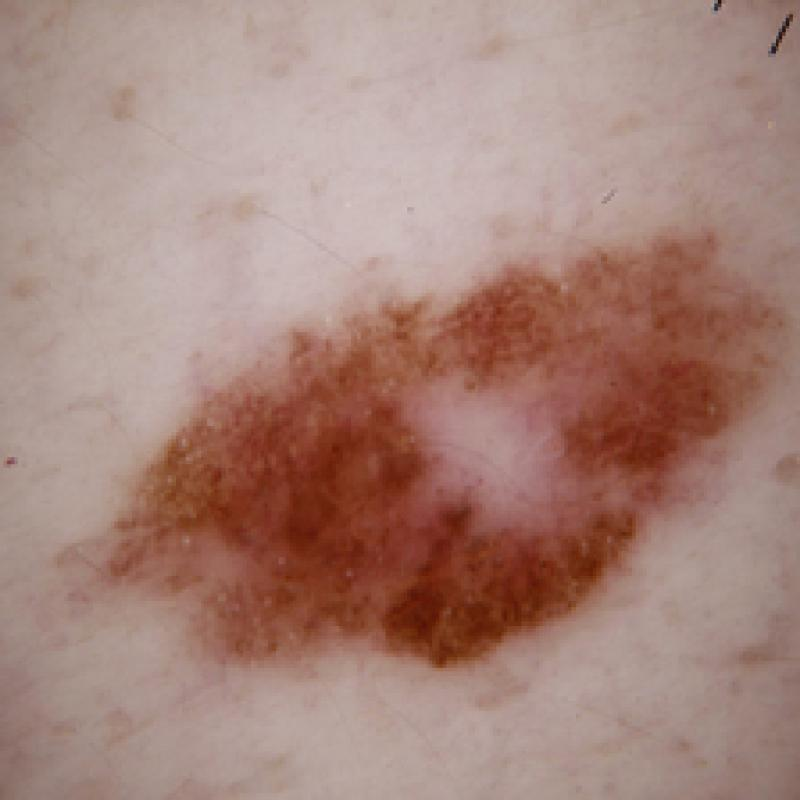benign: (85, 216, 794, 670)
